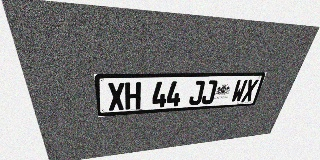4: (166, 81, 183, 107), (152, 81, 168, 108)
H: (125, 82, 141, 110)
J: (188, 80, 205, 105), (201, 80, 218, 105)
W: (230, 79, 248, 103)
X: (107, 82, 125, 111), (241, 79, 259, 102)
